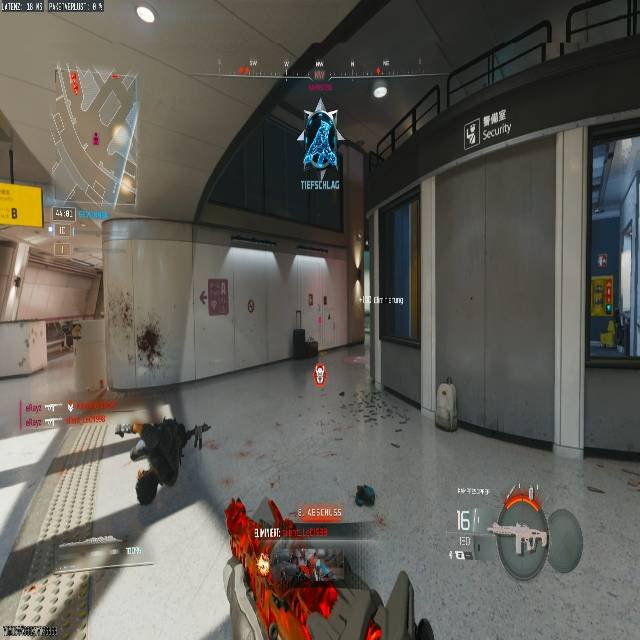player: (119, 406, 203, 546), (299, 101, 340, 168), (136, 323, 162, 368)
